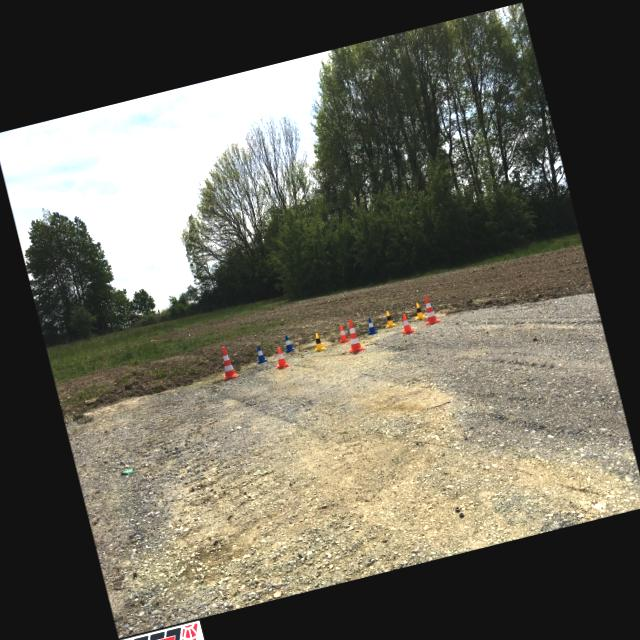blue_cone: (252, 344, 268, 364), (281, 333, 295, 352), (363, 316, 377, 334)
large_orange_cone: (216, 344, 239, 380), (342, 318, 364, 353), (418, 294, 440, 326)
orange_cone: (270, 346, 290, 369), (398, 312, 414, 334), (336, 324, 349, 343)
yellow_cone: (310, 331, 326, 351), (382, 310, 396, 328), (412, 302, 424, 320)
